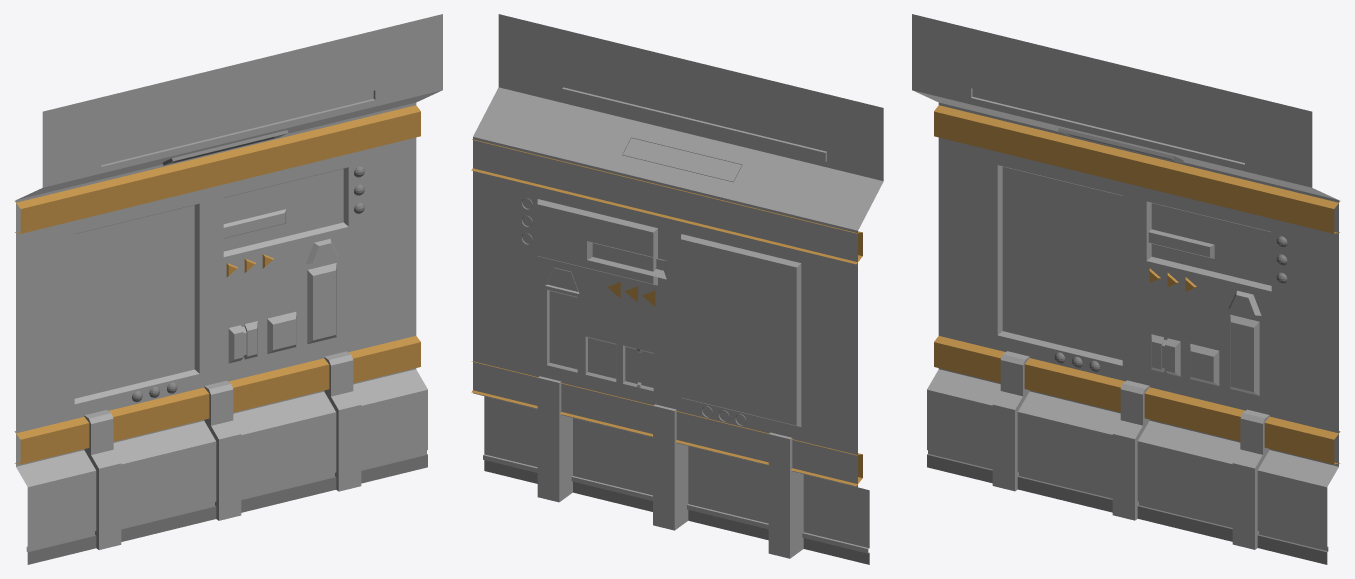
The model's file is wall_1.glb.
3 renders of one model, left to right at view 1: azimuth 30°, elevation 25°; view 2: azimuth 150°, elevation 25°; view 3: azimuth 330°, elevation 25°, orthographic. The views are drawn at different scales.
Parts seen in each view (by area): view 1: Wall_1; view 2: Wall_1; view 3: Wall_1.
Boxes of the visible parts, x1=… form: Wall_1: x1=14, y1=14, x2=442, y2=564; Wall_1: x1=471, y1=14, x2=883, y2=564; Wall_1: x1=912, y1=14, x2=1340, y2=564.
Size of the model in its own units: 4 by 4.43 by 0.5447.
